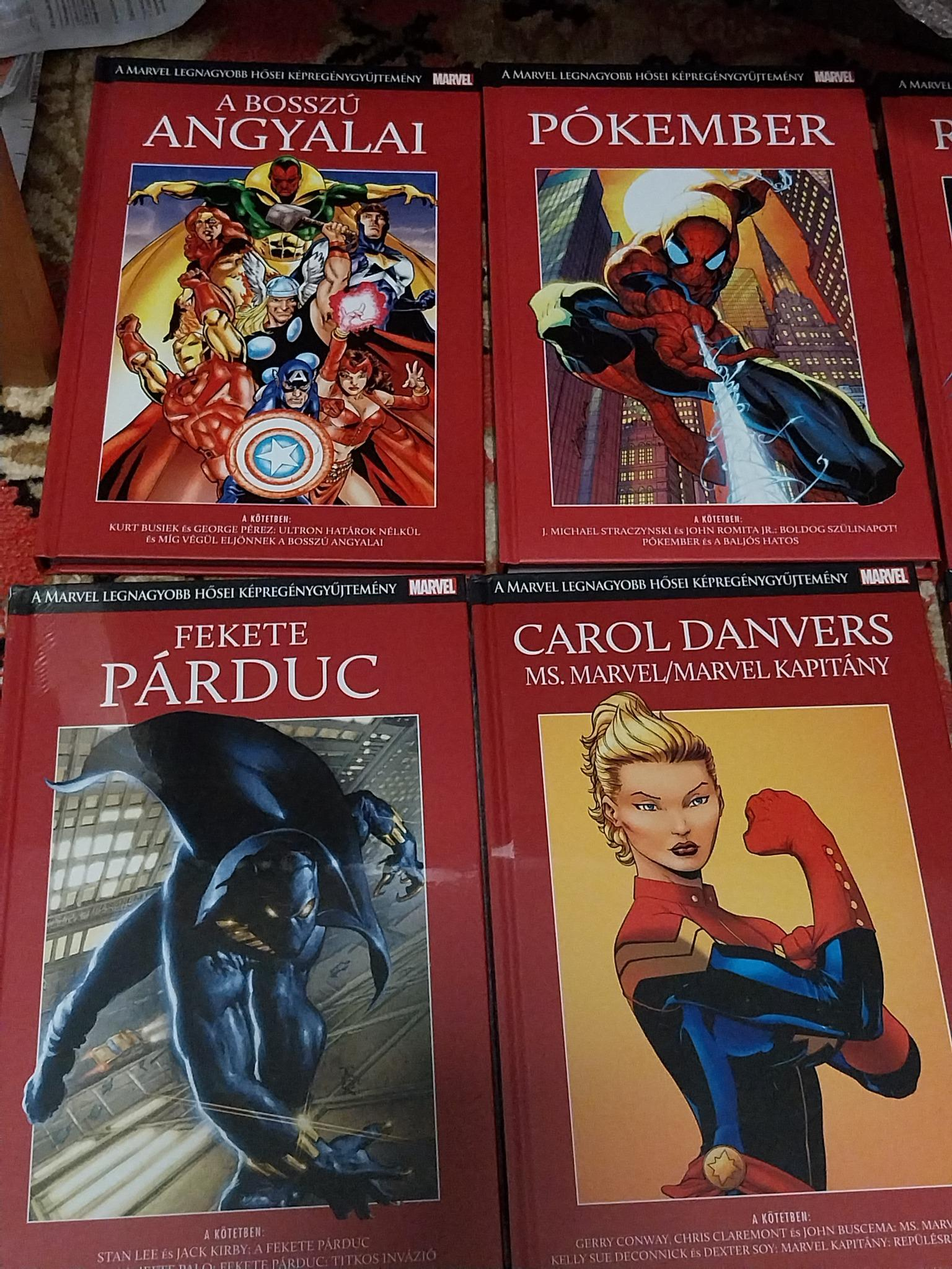comic: (0, 574, 501, 1268), (470, 554, 952, 1269), (483, 52, 936, 572), (38, 59, 483, 571)
